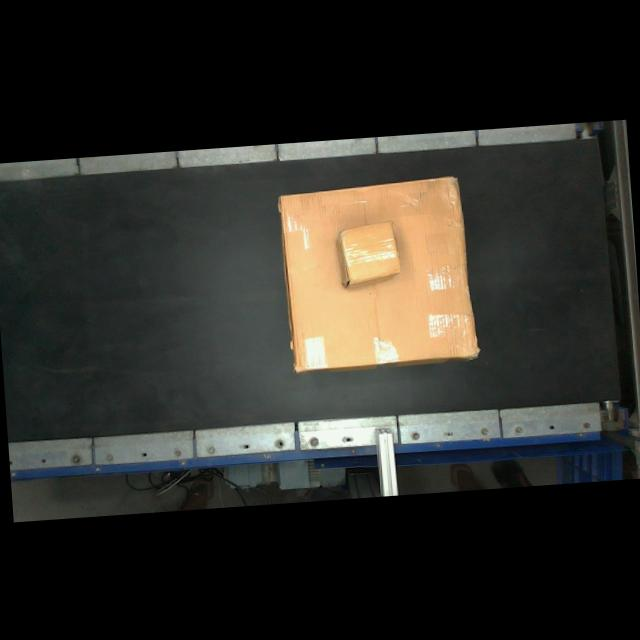box: (280, 176, 479, 370), (340, 220, 401, 285)
